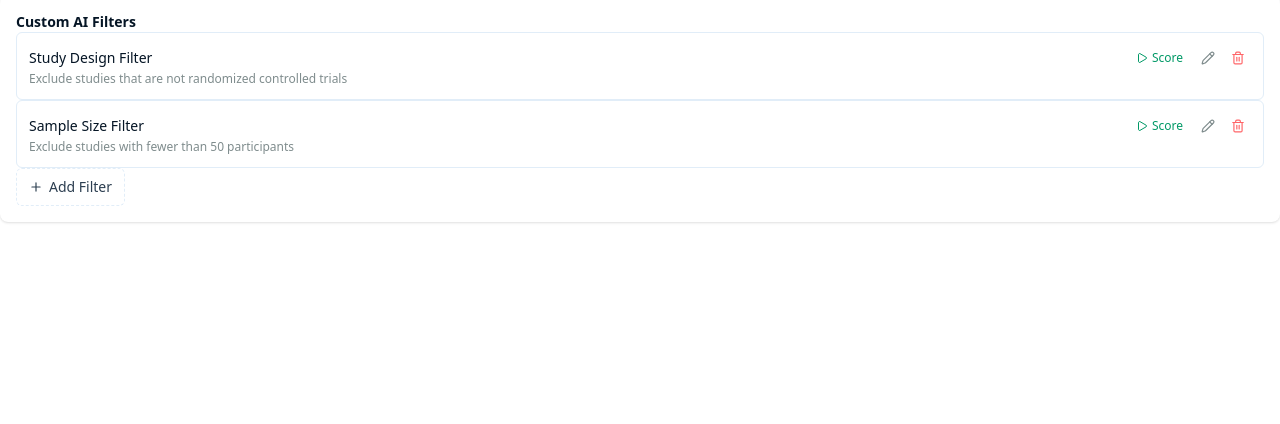
CustomAiFilterEditor › opens create form when Add Filter is clicked
The width and height of the screenshot is (1280, 424).
Click the button with test id "add-filter-button". click: {"x": 70, "y": 187}
box: left=16, top=168, right=125, bottom=206
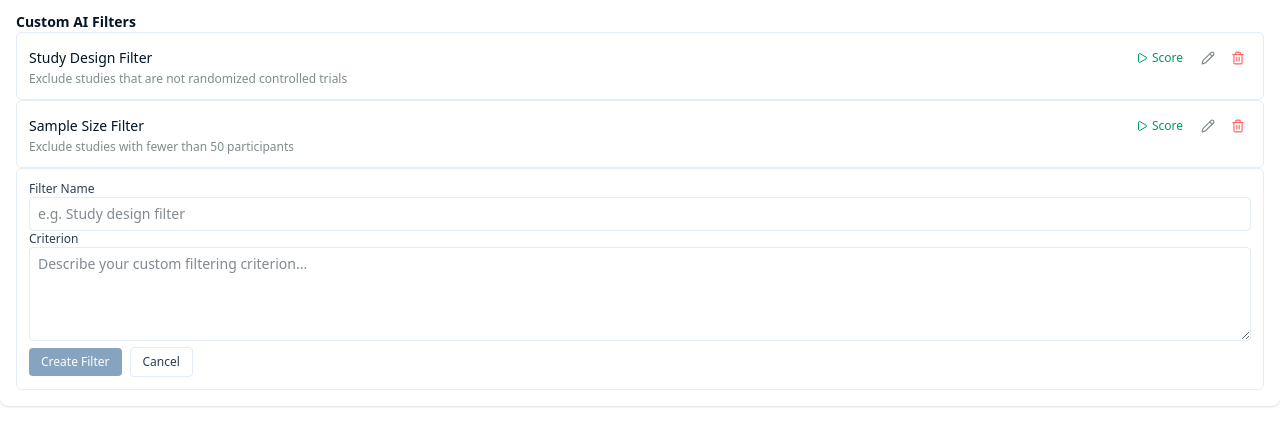
Now the element with test id "create-filter-form" is shown, box left=16, top=168, right=1264, bottom=390
Now the field with test id "new-filter-name-input" is shown, box left=29, top=197, right=1251, bottom=231
Now the text box with test id "new-filter-criterion-input" is shown, box left=29, top=247, right=1251, bottom=341
